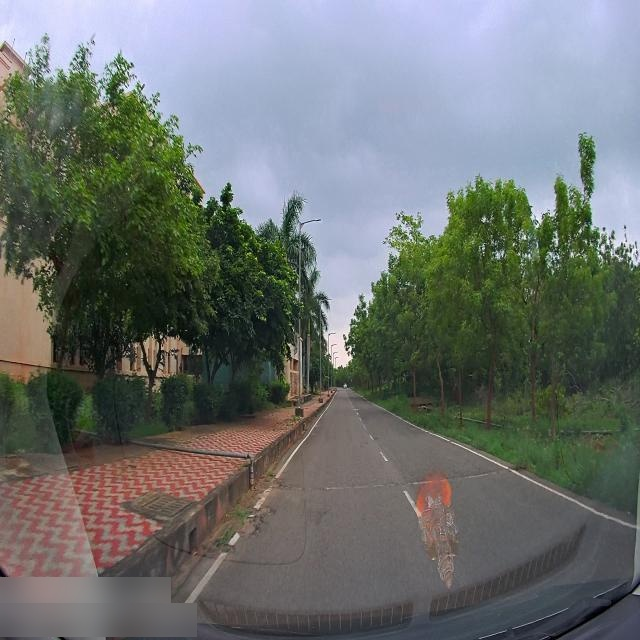pothole: (228, 502, 288, 550), (271, 468, 343, 495)
